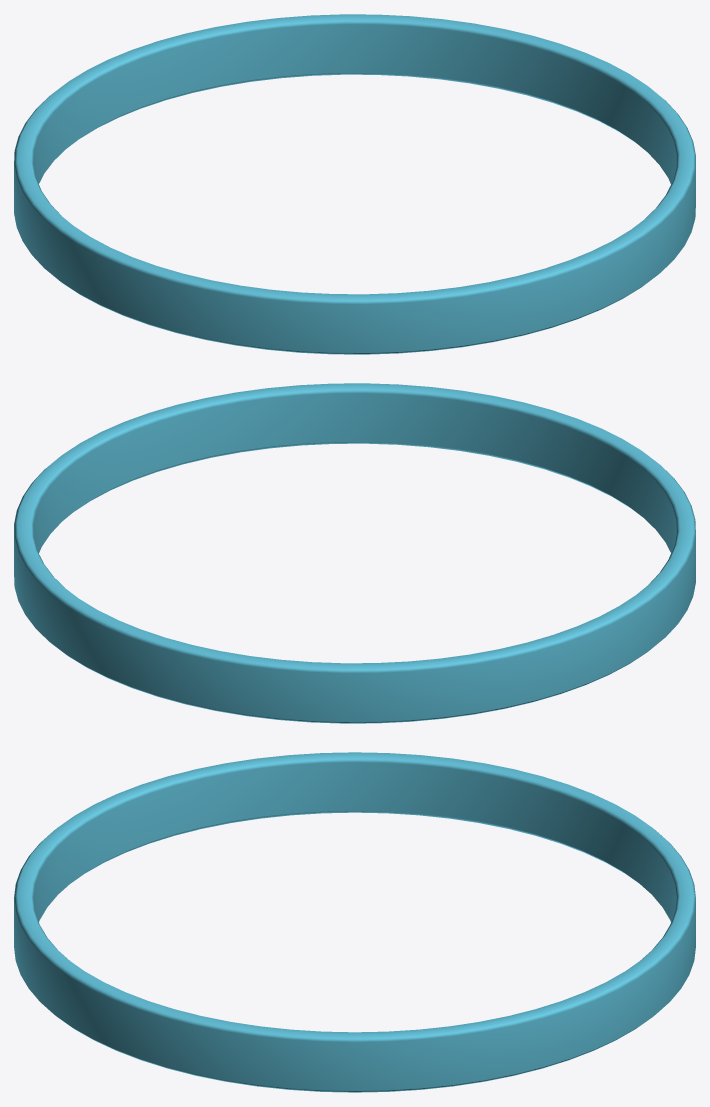
3 renders of one model, top to bottom at view 1: azimuth 30°, elevation 25°; view 2: azimuth 150°, elevation 25°; view 3: azimuth 270°, elevation 25°, orthographic.
Visible parts, largest first — view 1: seal_body; view 2: seal_body; view 3: seal_body.
Part boxes in pixels (x1,y1,x2,y2): seal_body: (14,14,695,354); seal_body: (14,383,695,723); seal_body: (14,752,695,1092).
Bounding box in the file's own units: 0.2018 × 0.018 × 0.2018.
